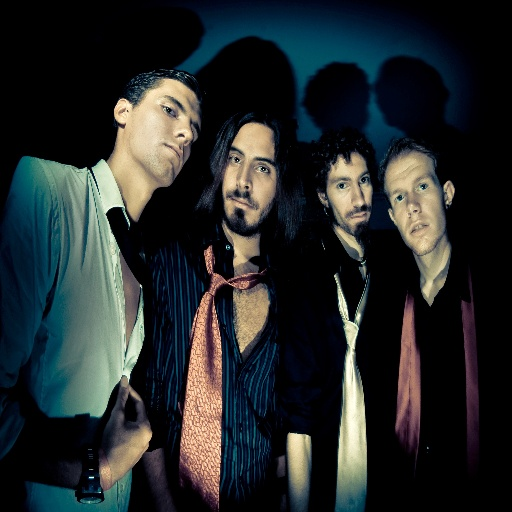hand: (82, 368, 150, 488), (144, 482, 173, 511)
